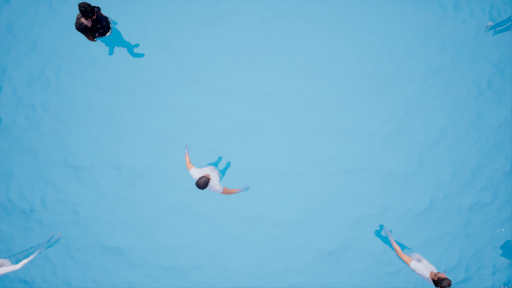person: (373, 224, 463, 288), (70, 2, 147, 62), (177, 141, 252, 200)
